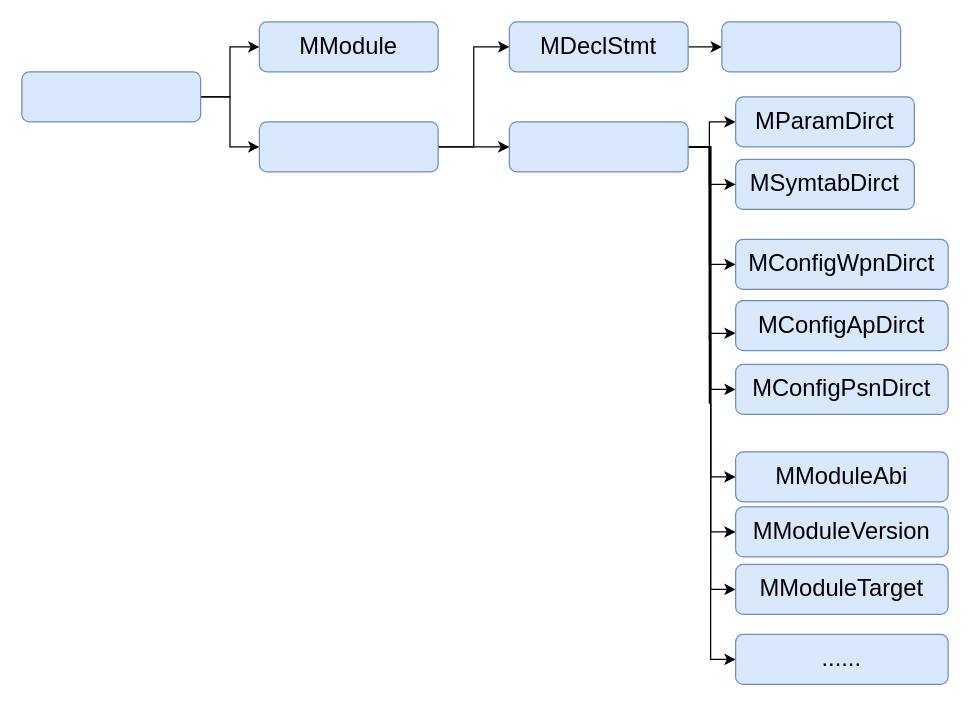
The diagram is 970 pixels wide and 706 high, and some of its shapes have lost their labels. Here are the shapes that lost their labels. From the top down, the centre of each, then its label:
At [811,46]: "MValDecl".
At [111,96]: "MObject".
At [348,146]: "MStmt".
At [598,146]: "MDirctStmt".
